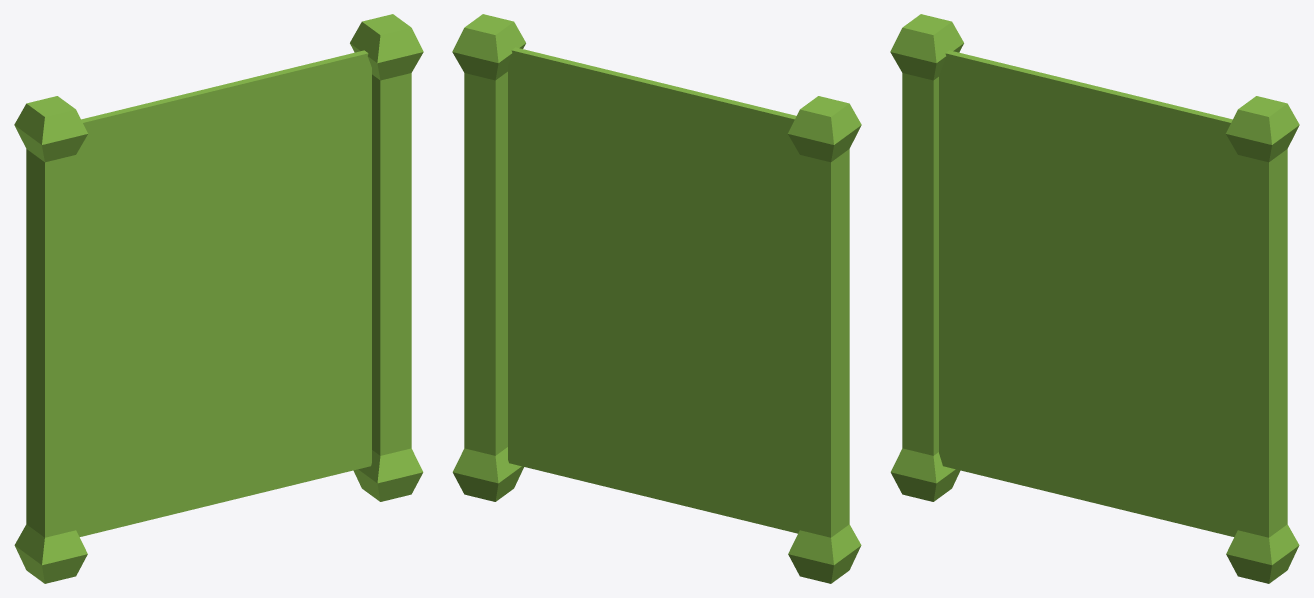
Rendered from Kap.fbx.
The picture shows the model from 3 angles, left to right: view 1: azimuth 30°, elevation 25°; view 2: azimuth 150°, elevation 25°; view 3: azimuth 330°, elevation 25°; orthographic projection.
Parts seen in each view (by area): view 1: pine, door; view 2: pine, door; view 3: pine, door.
Boxes of the visible parts, <box> form: pine: <box>76,50,371,536</box>; door: <box>14,14,423,583</box>; pine: <box>508,47,799,533</box>; door: <box>452,14,861,583</box>; pine: <box>939,50,1237,536</box>; door: <box>890,14,1299,583</box>.
Size of the model in its own units: 101 by 118 by 12.67.
